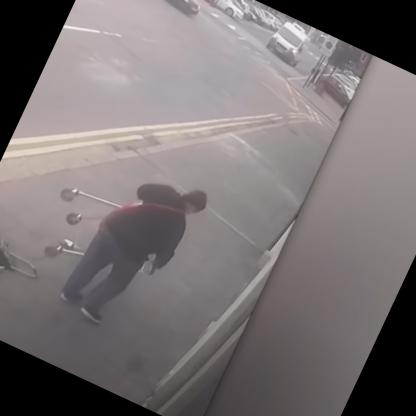Human Body: (47, 152, 220, 353)
